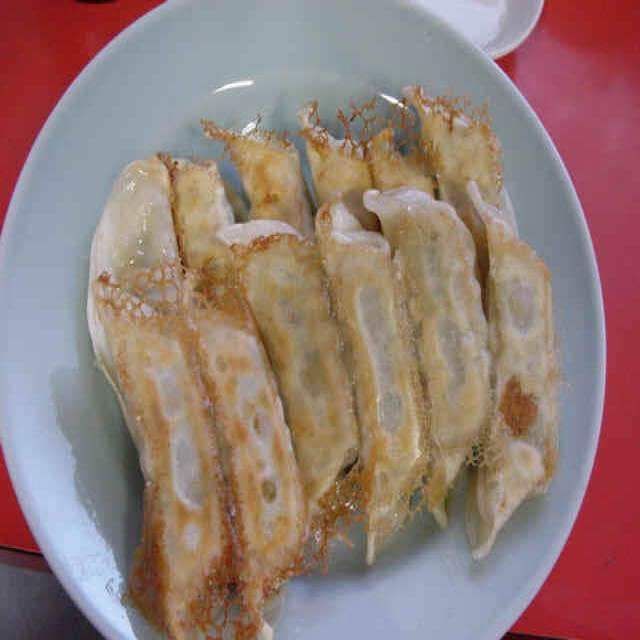带馅早点: (81, 138, 568, 618)
